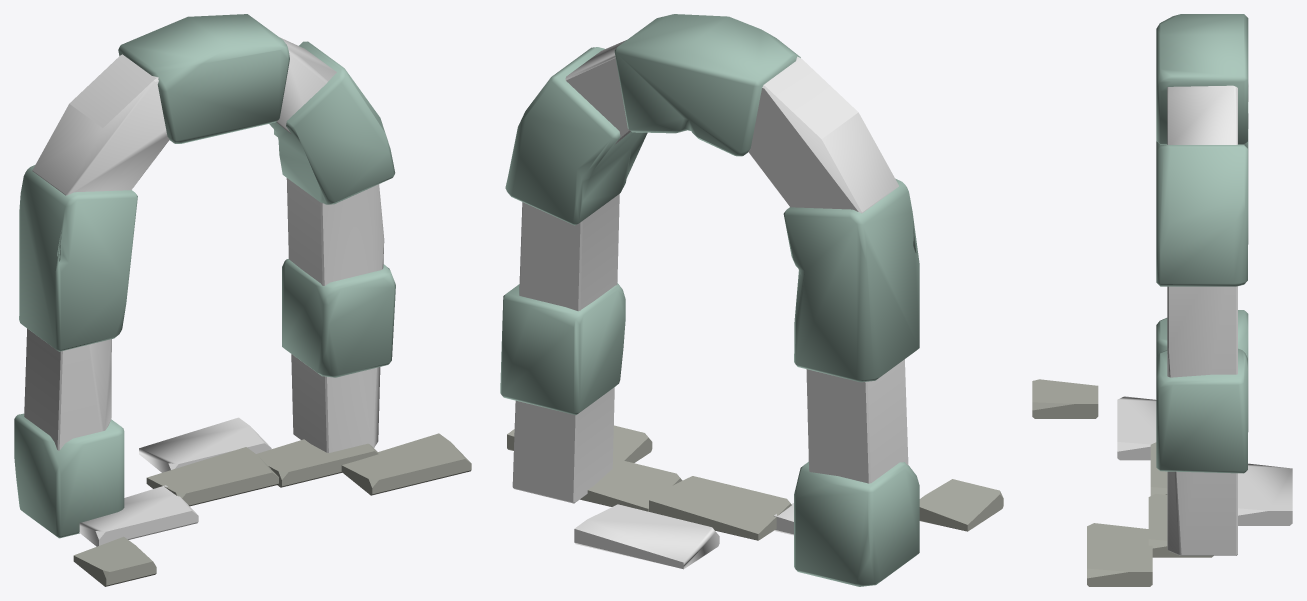
File: portalLeft.fbx
The picture shows the model from 3 angles, left to right: view 1: azimuth 30°, elevation 25°; view 2: azimuth 150°, elevation 25°; view 3: azimuth 270°, elevation 25°; orthographic projection. The views are drawn at different scales.
Visible parts, largest first — view 1: PortalBlocks001.001, PortalBase001; view 2: PortalBlocks001.001, PortalBase001; view 3: PortalBlocks001.001, PortalBase001.
Boxes of the visible parts, x1=… form: PortalBlocks001.001: x1=14, y1=14, x2=471, y2=586; PortalBase001: x1=24, y1=37, x2=384, y2=546; PortalBlocks001.001: x1=500, y1=14, x2=1003, y2=586; PortalBase001: x1=512, y1=40, x2=908, y2=569; PortalBlocks001.001: x1=1032, y1=14, x2=1248, y2=586; PortalBase001: x1=1117, y1=85, x2=1292, y2=555.
Size of the model in its own units: 366 by 402 by 209.
